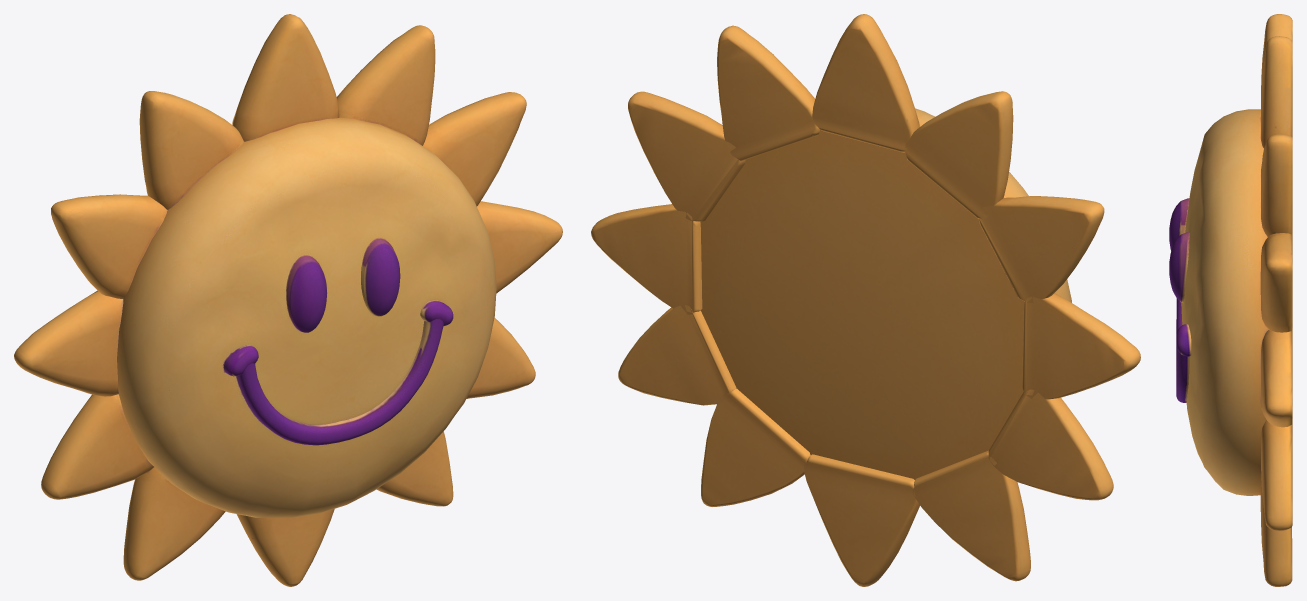
The model's file is dream-sun.glb.
The picture shows the model from 3 angles, left to right: view 1: azimuth 30°, elevation 25°; view 2: azimuth 150°, elevation 25°; view 3: azimuth 270°, elevation 25°; orthographic projection. The views are drawn at different scales.
Parts seen in each view (by area): view 1: tripo_node_12ab19c8-9cfc-4b8a-b49c-57efd1611a1e; view 2: tripo_node_12ab19c8-9cfc-4b8a-b49c-57efd1611a1e; view 3: tripo_node_12ab19c8-9cfc-4b8a-b49c-57efd1611a1e.
Boxes of the visible parts, x1,y1,x2,y2 form: tripo_node_12ab19c8-9cfc-4b8a-b49c-57efd1611a1e: [14, 14, 562, 586]; tripo_node_12ab19c8-9cfc-4b8a-b49c-57efd1611a1e: [591, 14, 1140, 586]; tripo_node_12ab19c8-9cfc-4b8a-b49c-57efd1611a1e: [1169, 14, 1292, 586].
Size of the model in its own units: 0.9995 by 0.9995 by 0.2144.
1 material, 1 textured.
